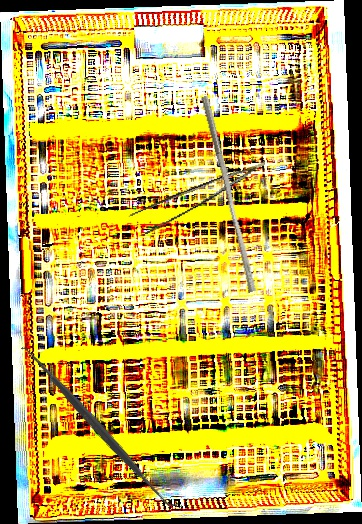Pusher: (193, 95, 264, 293)
Spatula Surgical: (15, 337, 182, 518)
Tissue Forceps: (126, 161, 274, 238)
